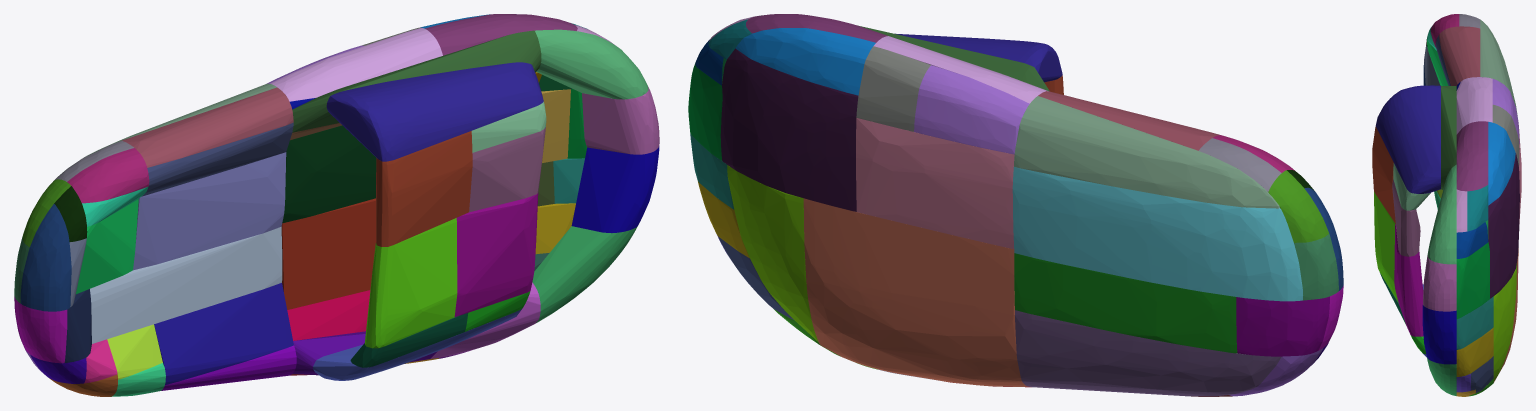
File: coacd_collision.obj
The picture shows the model from 3 angles, left to right: view 1: azimuth 30°, elevation 25°; view 2: azimuth 150°, elevation 25°; view 3: azimuth 270°, elevation 25°; orthographic projection. The views are drawn at different scales.
Parts seen in each view (by area): view 1: geometry_18, geometry_6, geometry_12, geometry_17, geometry_20, geometry_15, geometry_31, geometry_14, geometry_25, geometry_13, geometry_5, geometry_3 (+36 smaller); view 2: geometry_9, geometry_2, geometry_26, geometry_24, geometry_0, geometry_1, geometry_8, geometry_4, geometry_40, geometry_29, geometry_11, geometry_35 (+18 smaller); view 3: geometry_18, geometry_26, geometry_28, geometry_14, geometry_13, geometry_33, geometry_3, geometry_5, geometry_49, geometry_4, geometry_29, geometry_7 (+24 smaller).
Boxes of the visible parts, x1=… form: geometry_18: x1=326, y1=62, x2=543, y2=161; geometry_6: x1=90, y1=226, x2=282, y2=343; geometry_12: x1=133, y1=152, x2=286, y2=270; geometry_17: x1=364, y1=218, x2=457, y2=348; geometry_20: x1=154, y1=283, x2=293, y2=384; geometry_15: x1=281, y1=198, x2=375, y2=309; geometry_31: x1=376, y1=131, x2=472, y2=246; geometry_14: x1=454, y1=192, x2=538, y2=316; geometry_25: x1=282, y1=125, x2=376, y2=223; geometry_13: x1=121, y1=87, x2=293, y2=167; geometry_5: x1=571, y1=146, x2=659, y2=233; geometry_3: x1=535, y1=29, x2=648, y2=99; geometry_9: x1=803, y1=198, x2=1028, y2=386; geometry_2: x1=1012, y1=167, x2=1302, y2=301; geometry_26: x1=720, y1=48, x2=858, y2=211; geometry_24: x1=856, y1=118, x2=1014, y2=249; geometry_0: x1=1014, y1=96, x2=1279, y2=208; geometry_1: x1=1015, y1=310, x2=1281, y2=396; geometry_8: x1=1014, y1=253, x2=1237, y2=353; geometry_4: x1=727, y1=165, x2=818, y2=341; geometry_40: x1=914, y1=65, x2=1029, y2=154; geometry_29: x1=735, y1=28, x2=875, y2=95; geometry_11: x1=1236, y1=296, x2=1329, y2=356; geometry_35: x1=856, y1=46, x2=930, y2=131; geometry_18: x1=1375, y1=85, x2=1440, y2=193; geometry_26: x1=1488, y1=153, x2=1519, y2=298; geometry_28: x1=1456, y1=121, x2=1488, y2=191; geometry_14: x1=1394, y1=224, x2=1423, y2=336; geometry_13: x1=1439, y1=26, x2=1480, y2=85; geometry_33: x1=1456, y1=242, x2=1489, y2=319; geometry_3: x1=1427, y1=164, x2=1456, y2=264; geometry_5: x1=1422, y1=305, x2=1456, y2=364; geometry_49: x1=1456, y1=77, x2=1492, y2=134; geometry_4: x1=1493, y1=263, x2=1516, y2=381; geometry_29: x1=1488, y1=122, x2=1515, y2=205; geometry_7: x1=1423, y1=255, x2=1456, y2=311.
Bounding box in the file's own units: 224 × 109 × 57.65.
